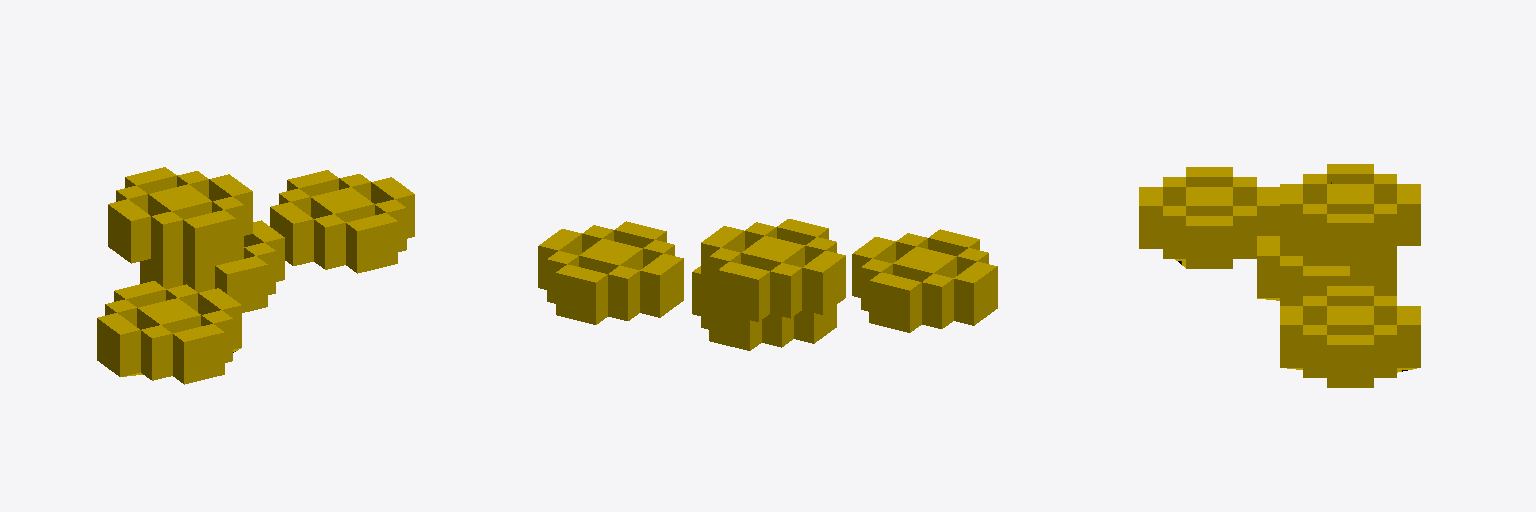
3 renders of one model, left to right at view 1: azimuth 30°, elevation 25°; view 2: azimuth 150°, elevation 25°; view 3: azimuth 270°, elevation 25°, orthographic.
Visible parts, largest first — view 1: Coins_3_Gold_Coins_3_Gold.001; view 2: Coins_3_Gold_Coins_3_Gold.001; view 3: Coins_3_Gold_Coins_3_Gold.001.
Part boxes in pixels (bbox=[...]): Coins_3_Gold_Coins_3_Gold.001: bbox=[97, 167, 414, 384]; Coins_3_Gold_Coins_3_Gold.001: bbox=[538, 219, 997, 350]; Coins_3_Gold_Coins_3_Gold.001: bbox=[1139, 164, 1420, 387].
Size of the model in its own units: 1.8 by 0.4 by 1.2.
1 materials, 1 textured.